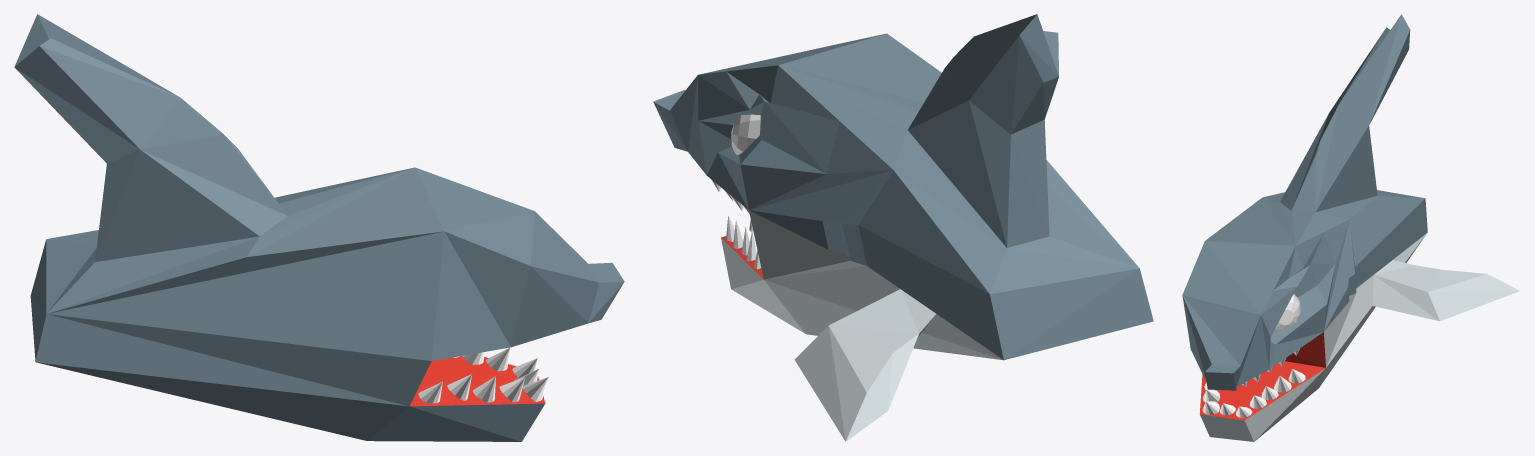
File: shark bust.fbx
The picture shows the model from 3 angles, left to right: view 1: azimuth 30°, elevation 25°; view 2: azimuth 150°, elevation 25°; view 3: azimuth 270°, elevation 25°; orthographic projection. The views are drawn at different scales.
Parts seen in each view (by area): view 1: model; view 2: model; view 3: model.
Part boxes in pixels (box(x1,y1,x2,y2)): model: box(14, 14, 624, 441); model: box(653, 14, 1153, 441); model: box(1182, 14, 1519, 441).
Size of the model in its own units: 104 by 81.23 by 83.09.
